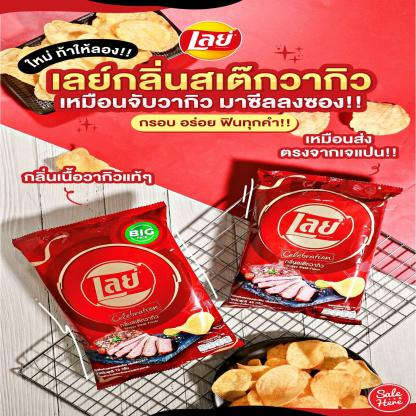potatochip: (15, 201, 248, 387), (227, 165, 400, 331)
